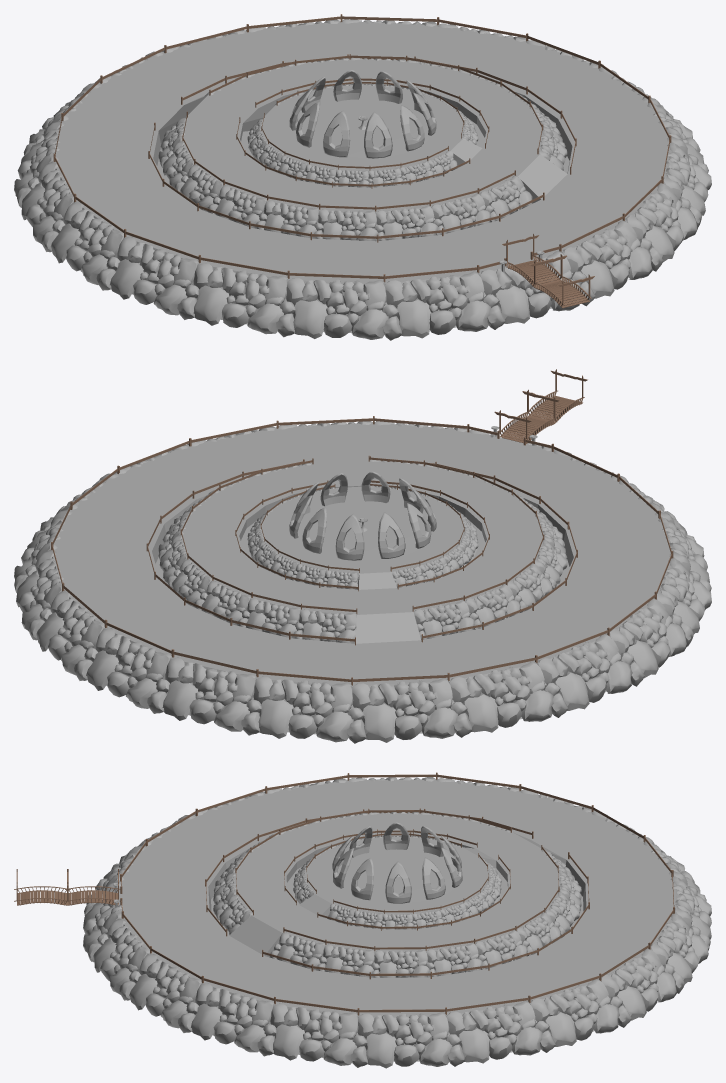
The model's file is Cliff_level_complete.fbx.
3 views of the same model, one above another, from view 1: azimuth 30°, elevation 25°; view 2: azimuth 150°, elevation 25°; view 3: azimuth 270°, elevation 25° (orthographic). The views are drawn at different scales.
Visible parts, largest first — view 1: Outside_circle, Outside_rocks, Middle_circle, Middle_rocks, Inside_circle, Inside_center_pillars, Outside_fence_1, Inside_rocks, Middle_fence_2, Outside_fence_2, Middle_fence_1, Bridge_2 (+3 smaller); view 2: Outside_circle, Outside_rocks, Middle_circle, Middle_rocks, Inside_circle, Inside_center_pillars, Outside_fence_1, Inside_rocks, Middle_fence_2, Outside_fence_3, Bridge_1, Middle_fence_1 (+3 smaller); view 3: Outside_circle, Outside_rocks, Middle_circle, Middle_rocks, Inside_circle, Inside_center_pillars, Outside_fence_1, Inside_rocks, Middle_fence_2, Outside_fence_3, Middle_fence_1, Bridge_2 (+3 smaller).
Boxes of the visible parts, bbox=[...] form: Outside_circle: bbox=[52, 21, 672, 333]; Outside_rocks: bbox=[14, 19, 711, 340]; Middle_circle: bbox=[158, 59, 567, 232]; Middle_rocks: bbox=[158, 57, 567, 241]; Inside_circle: bbox=[243, 85, 482, 182]; Inside_center_pillars: bbox=[289, 70, 436, 158]; Outside_fence_1: bbox=[53, 14, 671, 281]; Inside_rocks: bbox=[247, 84, 478, 187]; Middle_fence_2: bbox=[182, 54, 543, 211]; Outside_fence_2: bbox=[148, 122, 544, 242]; Middle_fence_1: bbox=[236, 78, 489, 188]; Bridge_2: bbox=[530, 254, 594, 308]; Outside_circle: bbox=[50, 422, 684, 734]; Outside_rocks: bbox=[14, 421, 711, 743]; Middle_circle: bbox=[180, 460, 551, 643]; Middle_rocks: bbox=[158, 459, 567, 643]; Inside_circle: bbox=[260, 485, 465, 589]; Inside_center_pillars: bbox=[289, 471, 436, 560]; Outside_fence_1: bbox=[51, 416, 673, 685]; Inside_rocks: bbox=[247, 486, 478, 589]; Middle_fence_2: bbox=[180, 455, 544, 613]; Outside_fence_3: bbox=[146, 459, 355, 645]; Bridge_1: bbox=[494, 390, 559, 443]; Middle_fence_1: bbox=[235, 480, 489, 591]; Outside_circle: bbox=[117, 779, 685, 1061]; Outside_rocks: bbox=[83, 777, 711, 1068]; Middle_circle: bbox=[229, 813, 566, 973]; Middle_rocks: bbox=[213, 812, 581, 977]; Inside_circle: bbox=[299, 836, 496, 926]; Inside_center_pillars: bbox=[332, 822, 462, 903]; Outside_fence_1: bbox=[120, 772, 674, 1015]; Inside_rocks: bbox=[293, 835, 501, 929]; Middle_fence_2: bbox=[235, 808, 559, 950]; Outside_fence_3: bbox=[262, 852, 589, 979]; Middle_fence_1: bbox=[284, 829, 510, 930]; Bridge_2: bbox=[14, 869, 70, 905].
Size of what is drawn, in the model's own units: 576 by 96.81 by 639.
